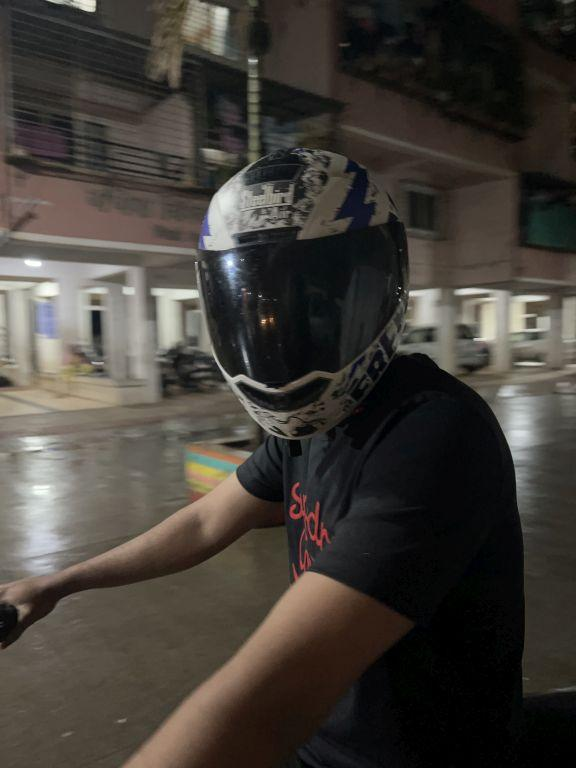helmet: (189, 134, 412, 449)
